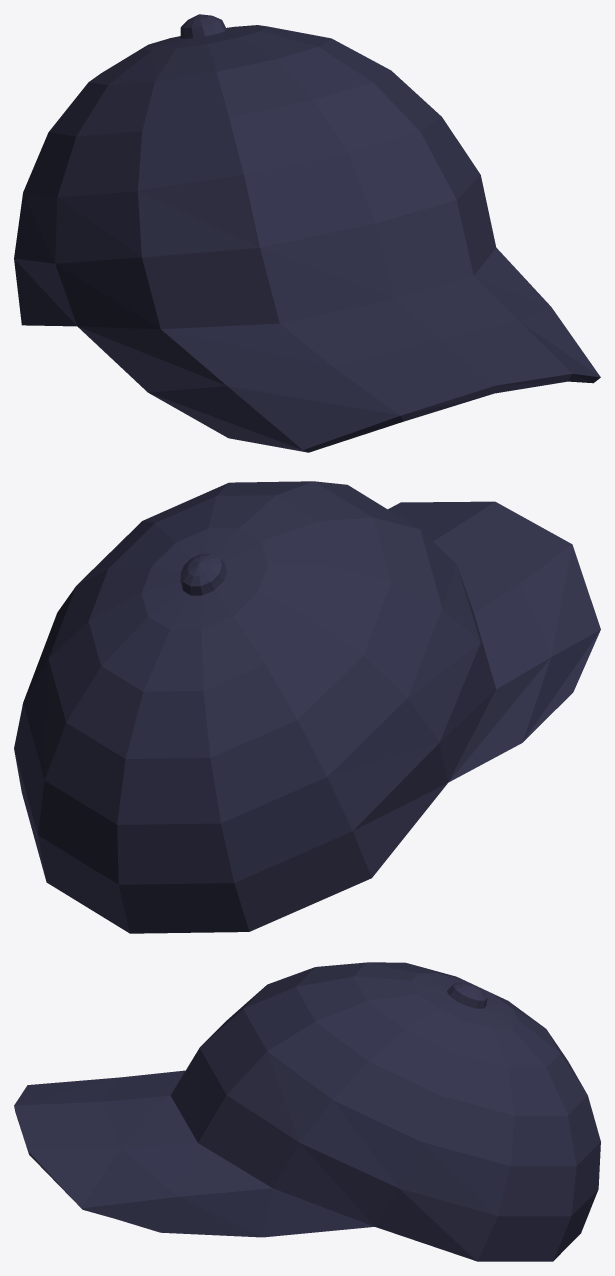
The model's file is baseball-cap.gltf.
3 views of the same model, one above another, from view 1: azimuth 30°, elevation 25°; view 2: azimuth 150°, elevation 25°; view 3: azimuth 270°, elevation 25° (orthographic). The views are drawn at different scales.
Visible parts, largest first — view 1: node-0; view 2: node-0; view 3: node-0.
Part boxes in pixels (x1=…): node-0: x1=14, y1=14, x2=600, y2=452; node-0: x1=14, y1=481, x2=600, y2=933; node-0: x1=14, y1=962, x2=600, y2=1261.
Size of the model in its own units: 1.81 by 1.49 by 3.09.
